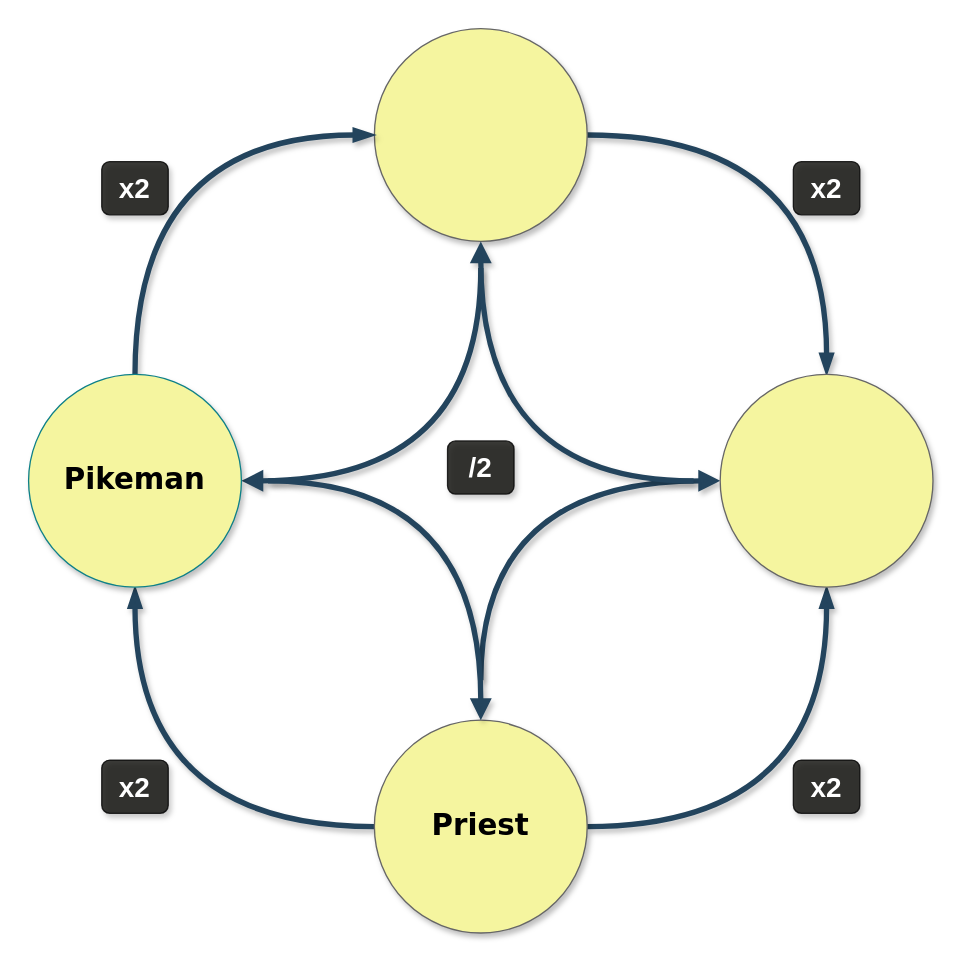
The diagram is 964 pixels wide and 966 high, and some of its shapes have lost their labels. The centre of each missing label's shape, as x and y in pixels:
Assassin: [827,482]
Footman: [481,136]
